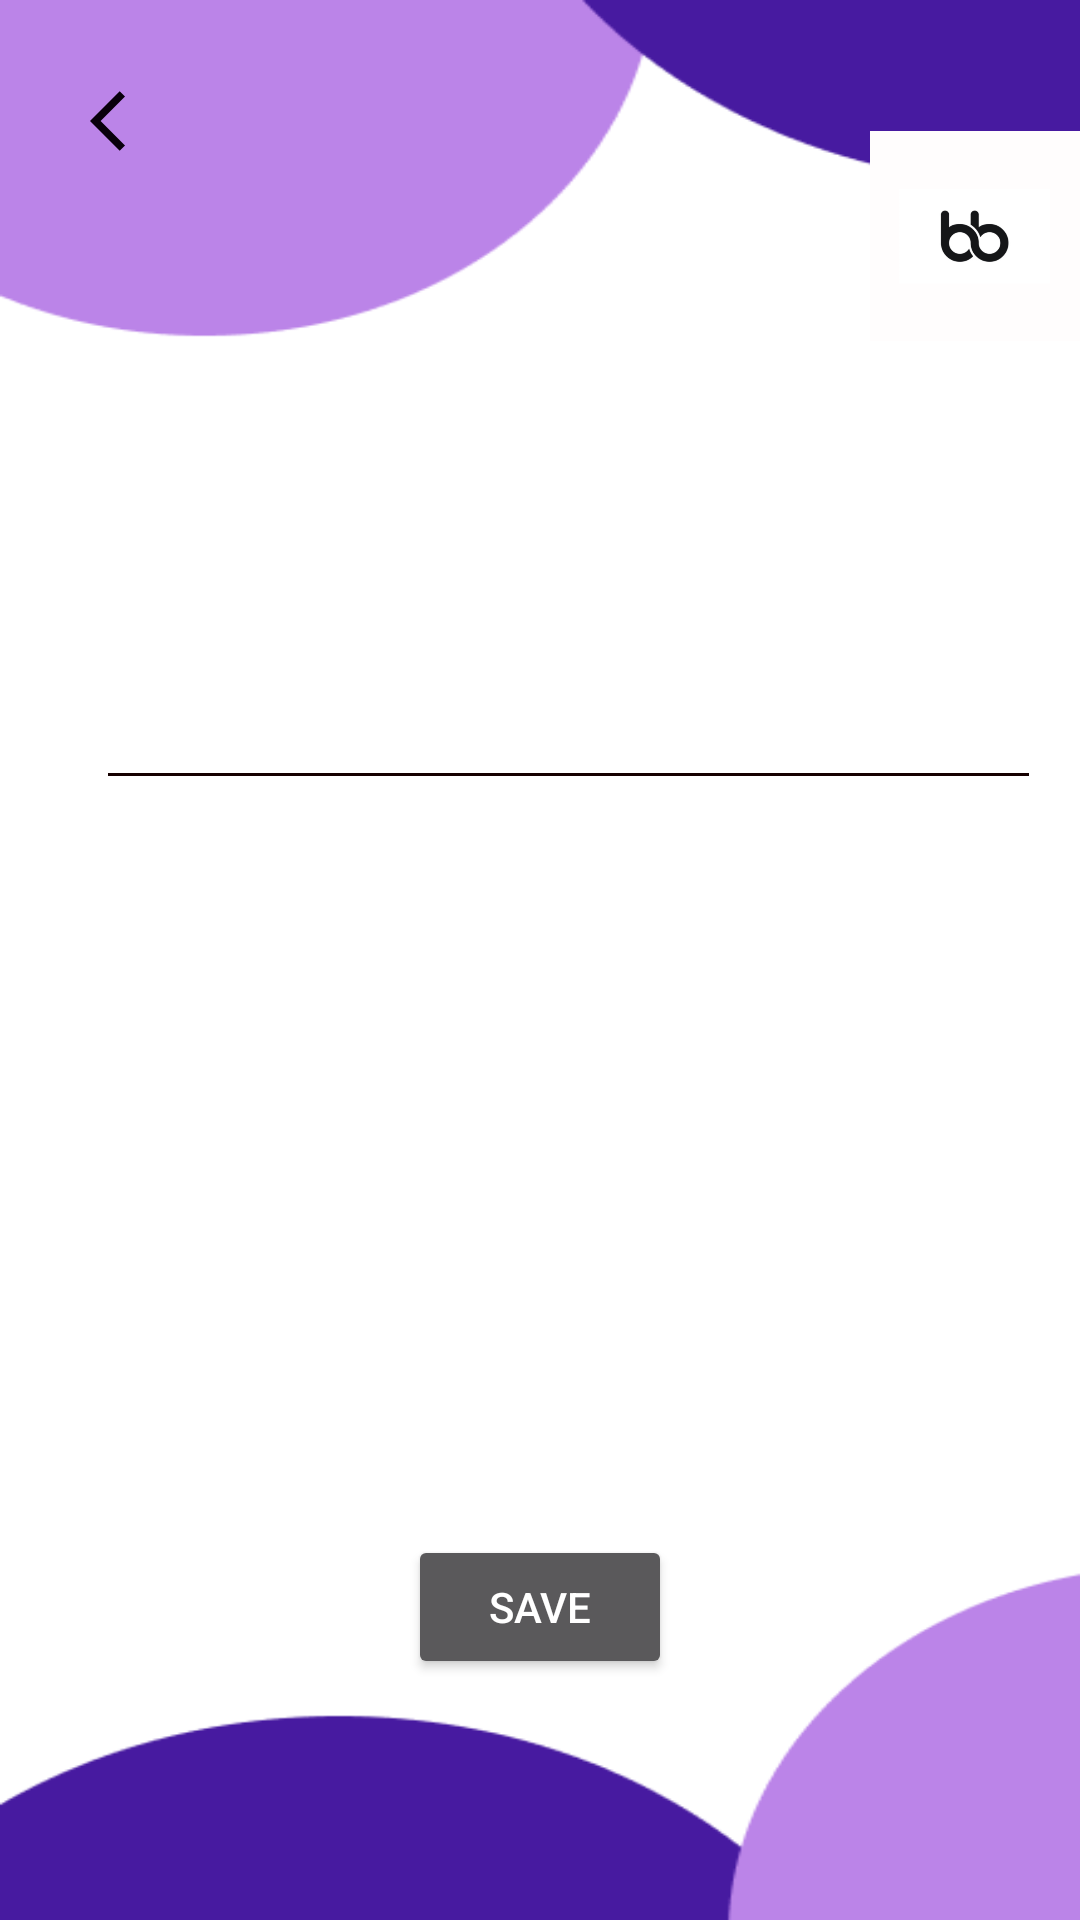

Icons on this 1080w x 1920h Android screen, each with its box as box=[x1, y1, x2, y2]:
arrow back: box=[90, 91, 125, 151]
